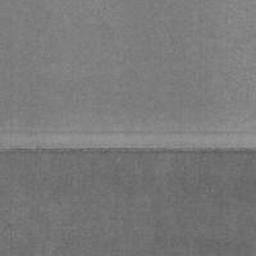Welding line: (0, 146, 256, 156)
